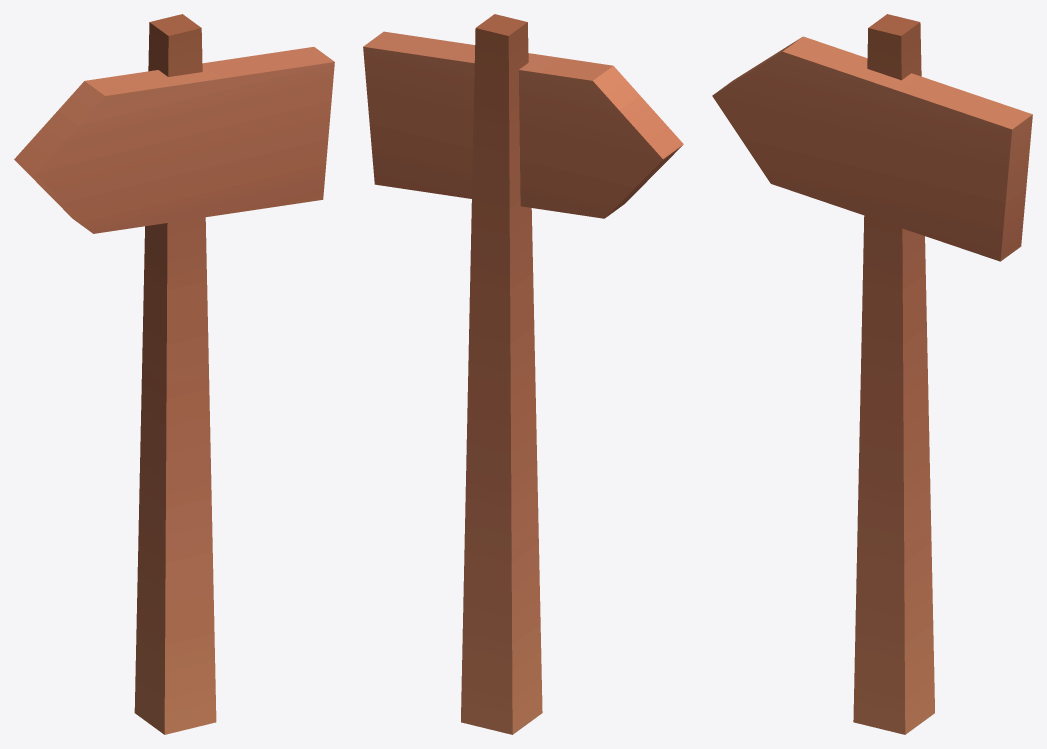
Rendered from k-survival-signpost-single.glb.
3 views of the same model, side by side, from view 1: azimuth 30°, elevation 25°; view 2: azimuth 150°, elevation 25°; view 3: azimuth 330°, elevation 25° (orthographic).
Parts seen in each view (by area): view 1: signpost-single; view 2: signpost-single; view 3: signpost-single.
Boxes of the visible parts, left/top/right/bottom form: signpost-single: left=14, top=14, right=334, bottom=734; signpost-single: left=363, top=14, right=683, bottom=734; signpost-single: left=712, top=14, right=1032, bottom=734.
Size of the model in its own units: 0.2086 by 0.4601 by 0.043.
Materials: 1 (1 with a texture image).
